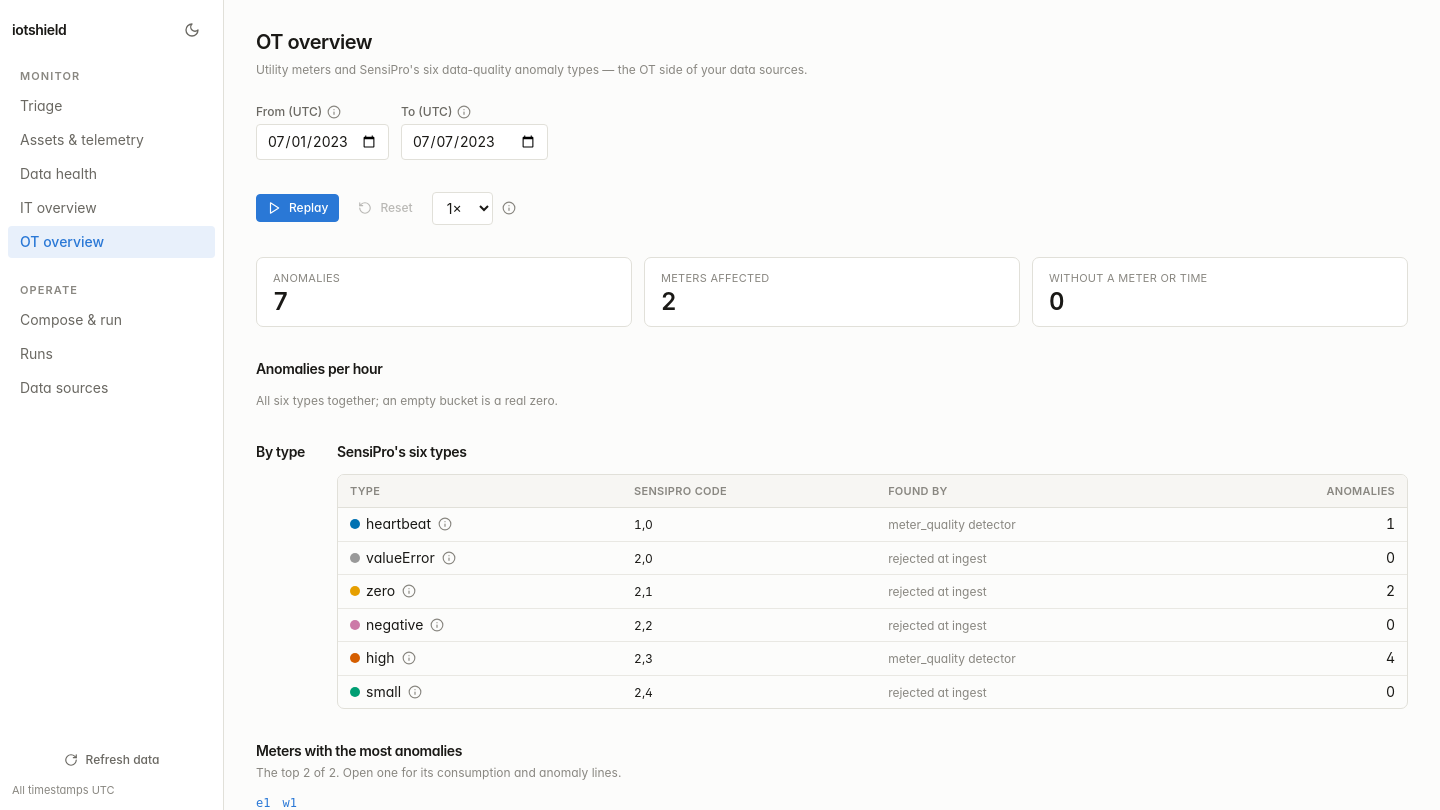
Test case: OT overview › replays the range: counts of what has arrived, a feed, and back to the whole range
Expected: the element with test id "stat-anomalies" shows "7", top-left (273, 286), bottom-right (288, 316)
Click the button with test id "replay_play" at (298,208), box top-left (256, 194), bottom-right (339, 222)
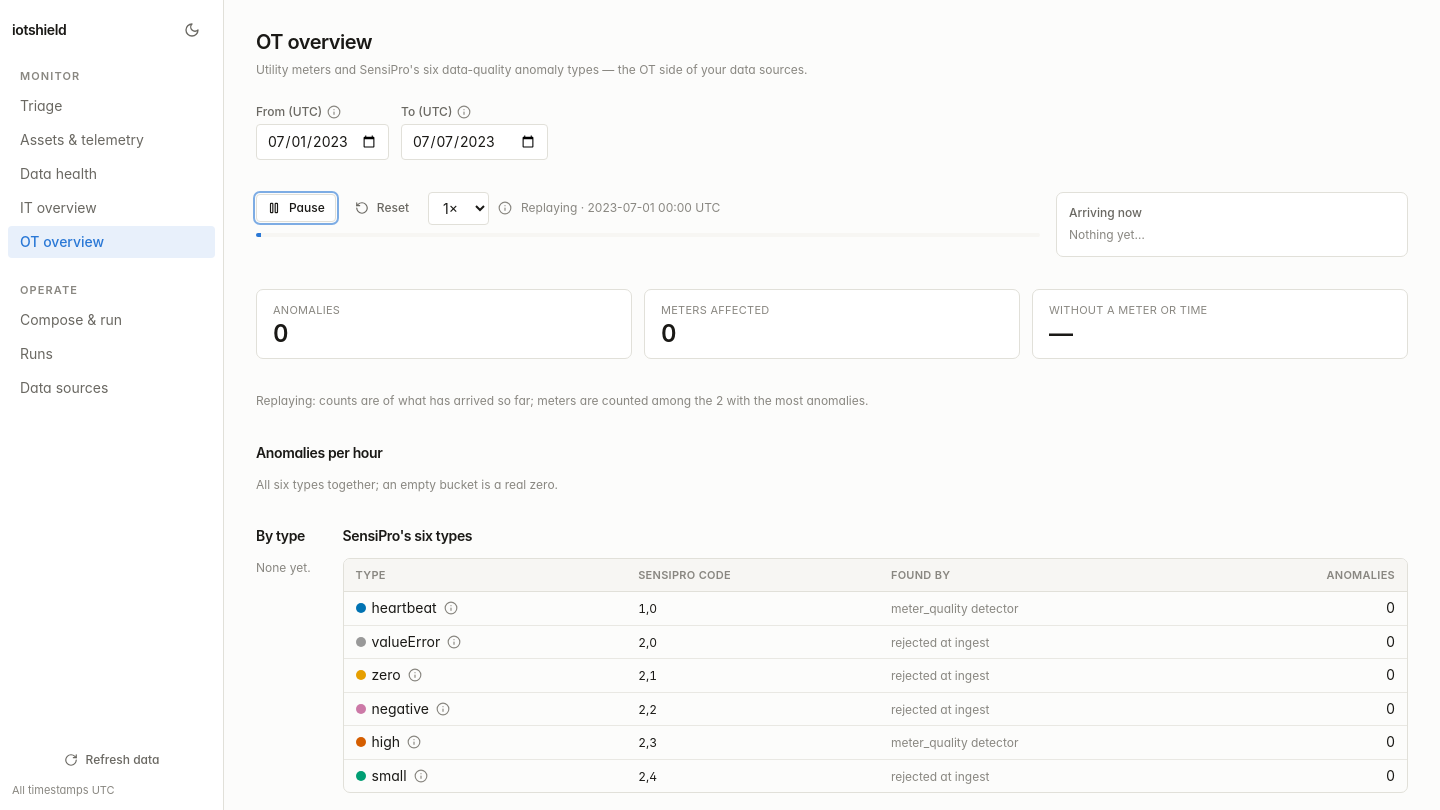
Expected: the text with test id "replay_now" reads "Replaying · 2023-07-01 00:00 UTC", top-left (521, 200), bottom-right (720, 215)
Expected: the element with test id "stat-anomalies" shows "0", top-left (273, 319), bottom-right (288, 348)
Expected: the element with test id "replay_feed" shows "Nothing yet", top-left (1069, 226), bottom-right (1145, 242)
Click the button with test id "replay_pause" at (296,208), box top-left (256, 194), bottom-right (336, 222)
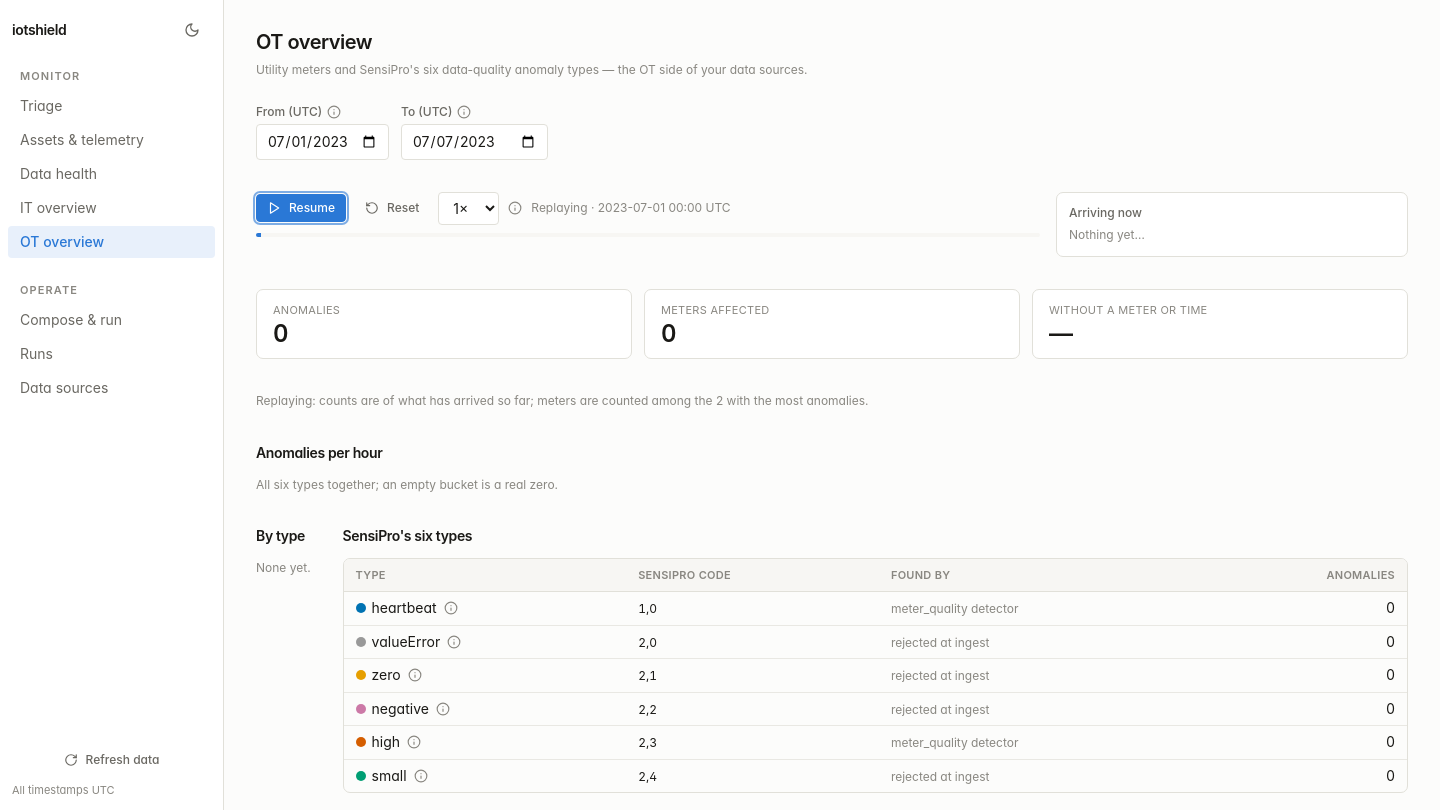
Click the button with test id "replay_reset" at (392,208), box top-left (354, 194), bottom-right (430, 222)
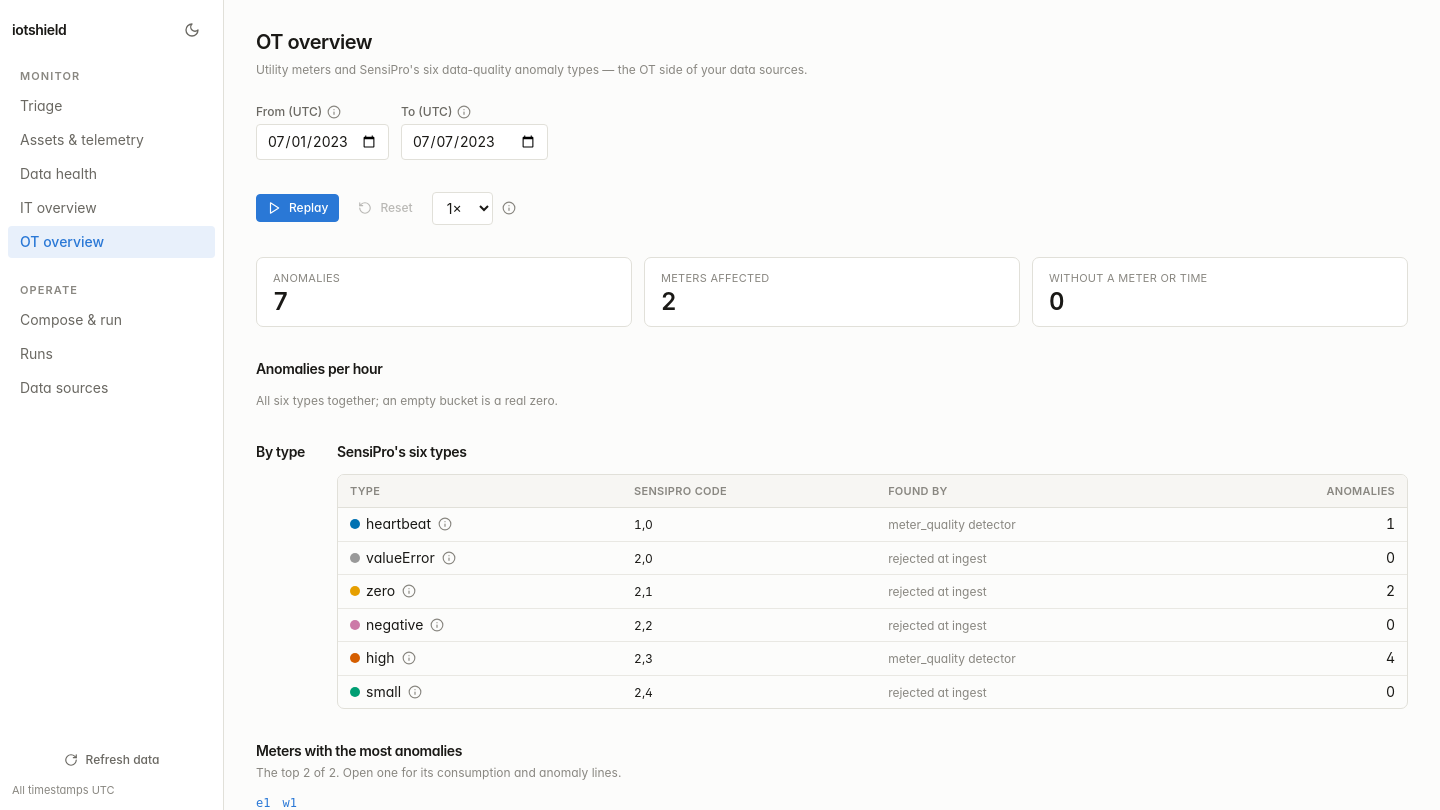
Expected: the element with test id "stat-anomalies" shows "7", top-left (273, 286), bottom-right (288, 316)
Expected: the element with test id "replay_feed" is gone
